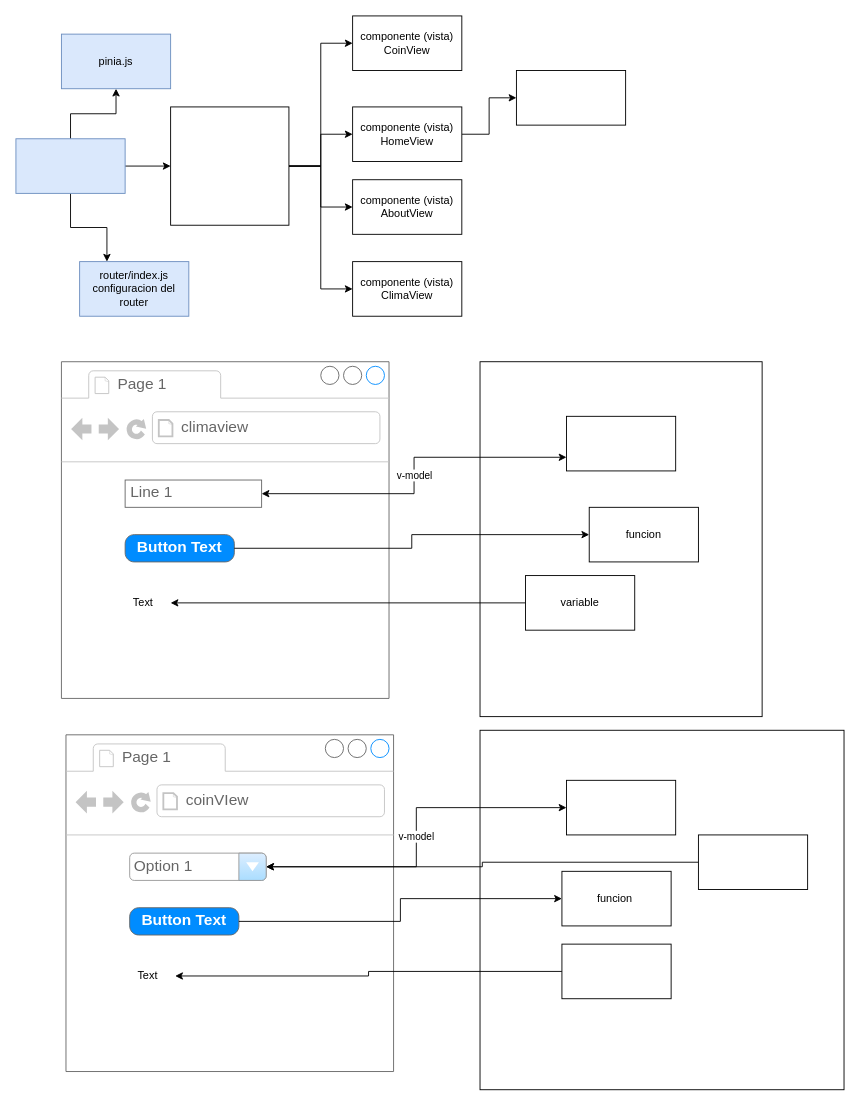
Image size: 860x1106. Some labels were removed from this diagram. The shapes that lost their labels are listed below. From the top down, each one's box as (x1, y1, x2, y2) in pixels, then its label:
(516, 70, 626, 125): componente thewelcome
(15, 138, 125, 193): main.js
(170, 106, 289, 225): componente raiz App.vue
(566, 415, 676, 471): tipomoneda
(479, 361, 762, 717): scrlipt
(566, 779, 676, 835): valor tipomoneda (ref)
(698, 834, 808, 890): valor listadomonedas (ref)
(561, 943, 671, 999): valor (ref) moneda
